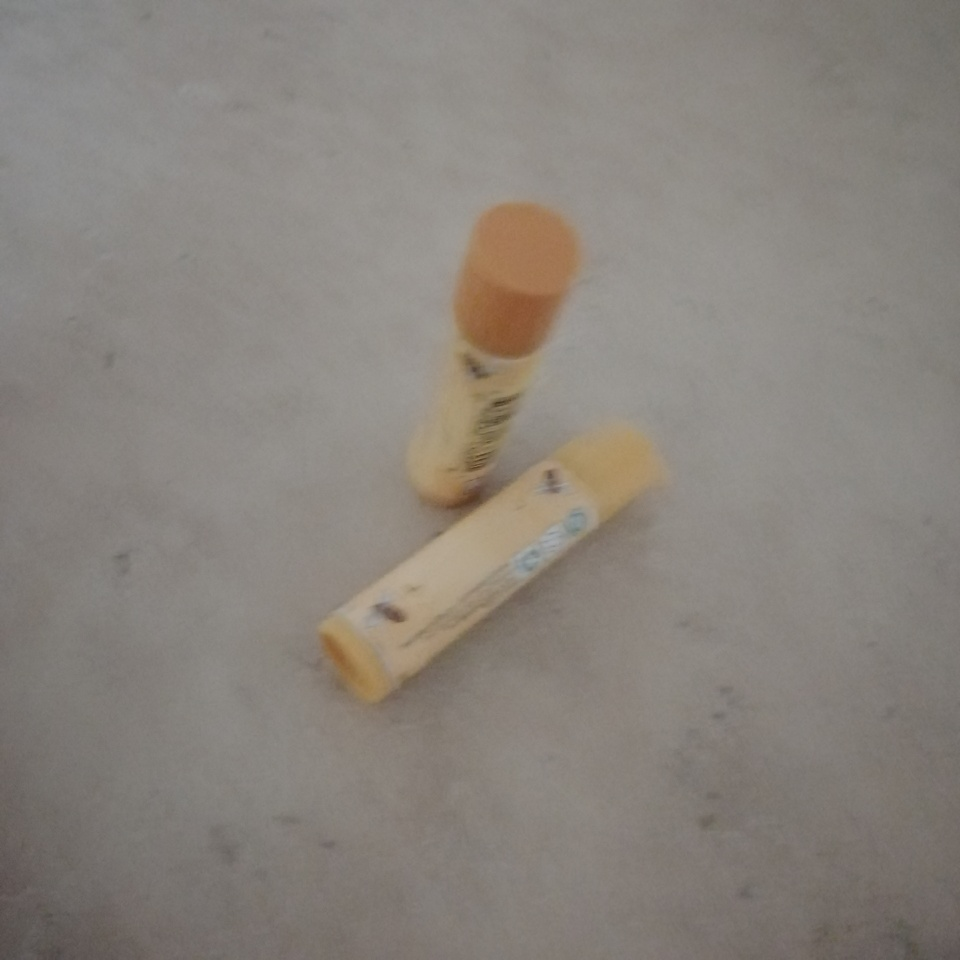chapstick: (319, 420, 667, 710), (408, 202, 579, 505)
